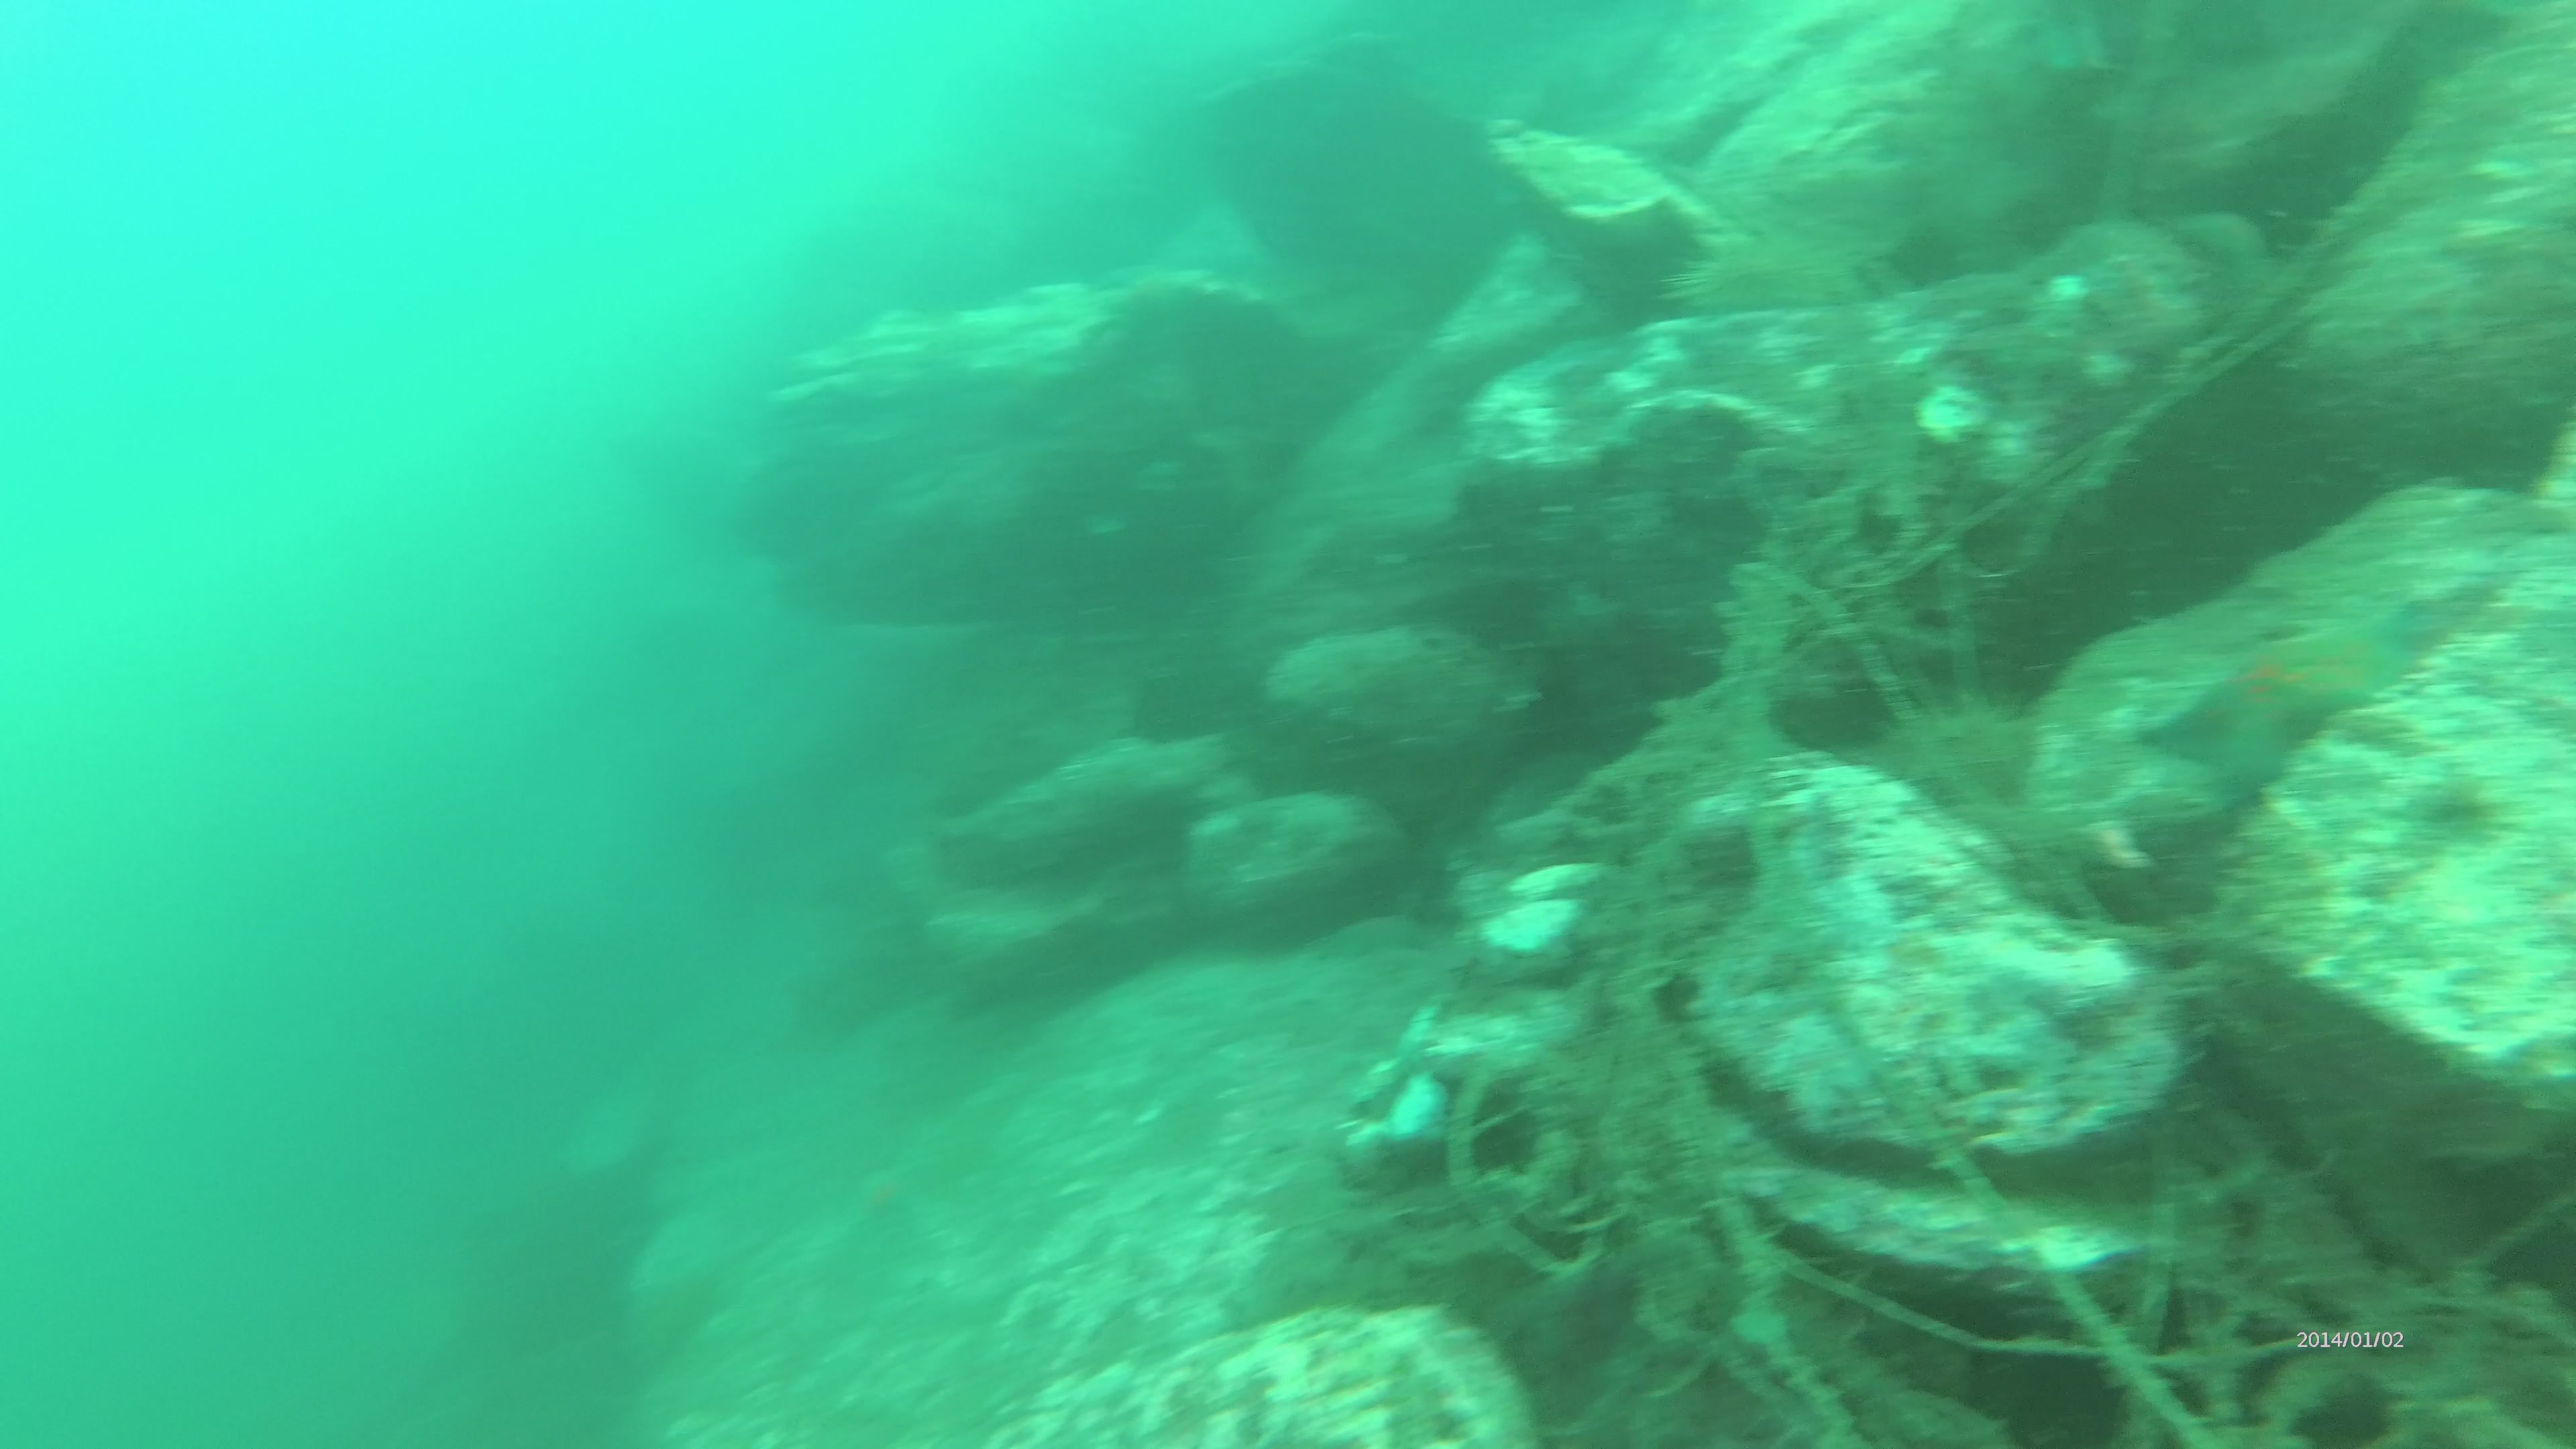starfish: (2139, 612, 2399, 796)
